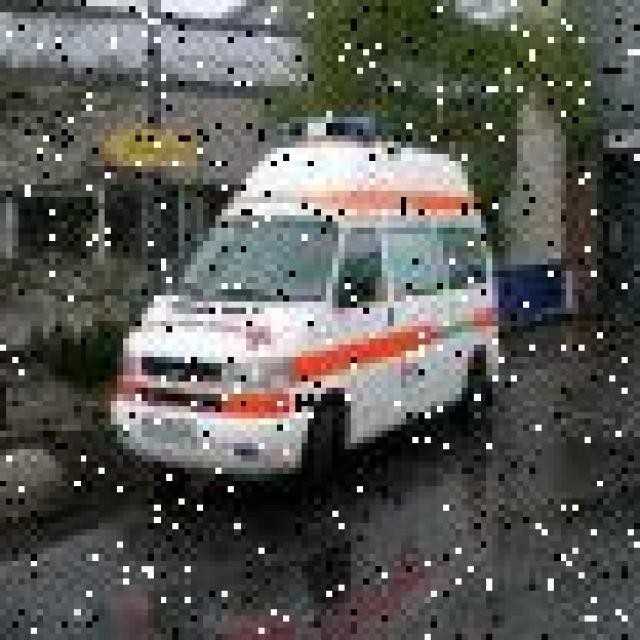emergency-vehicle: (108, 108, 508, 496)
